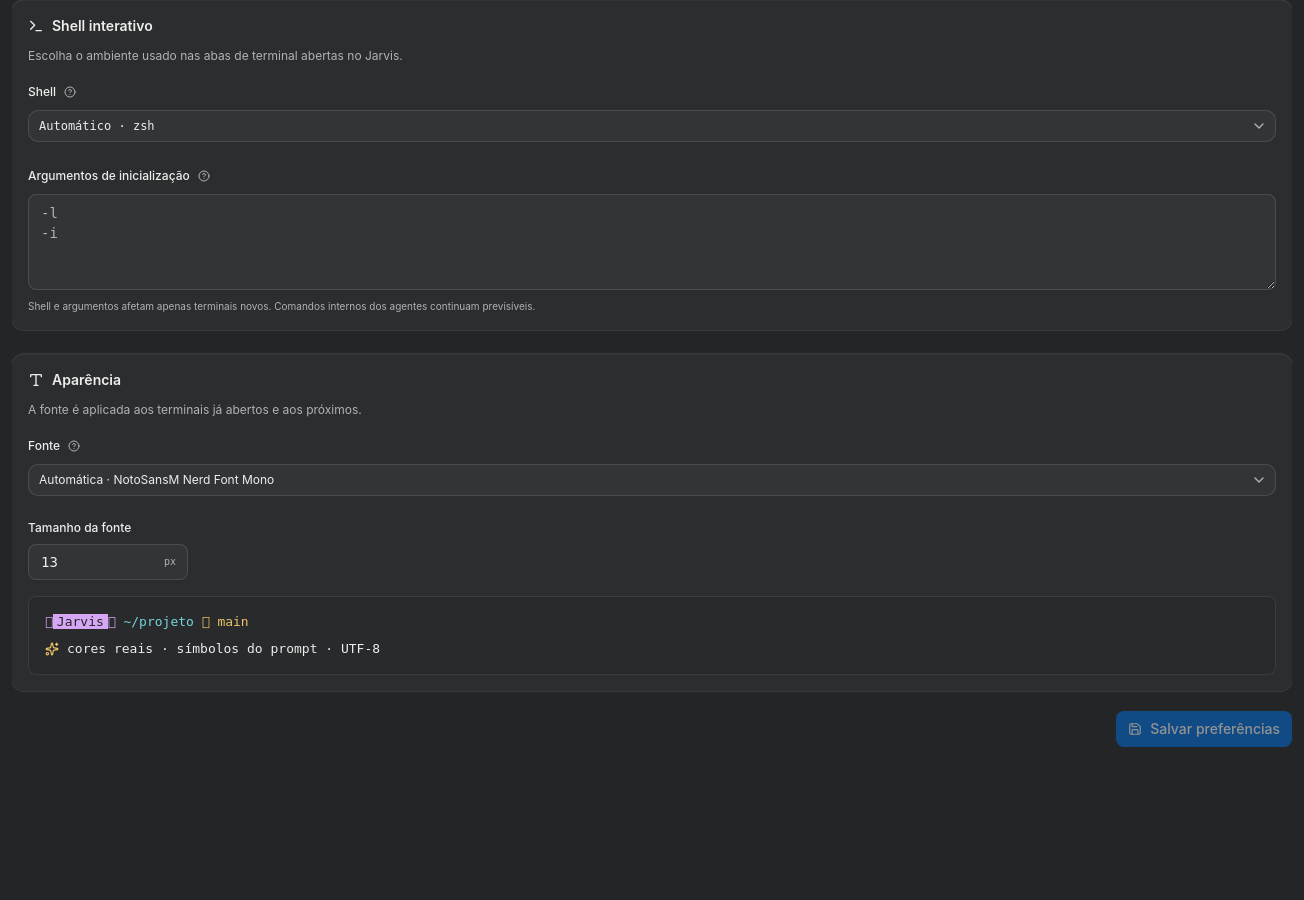
Test: terminal preferences › keeps a rejected custom shell visible so the user can correct it
Click the dropdown named "Shell do terminal" at coordinates (97, 126), box 28,110 -> 1276,142
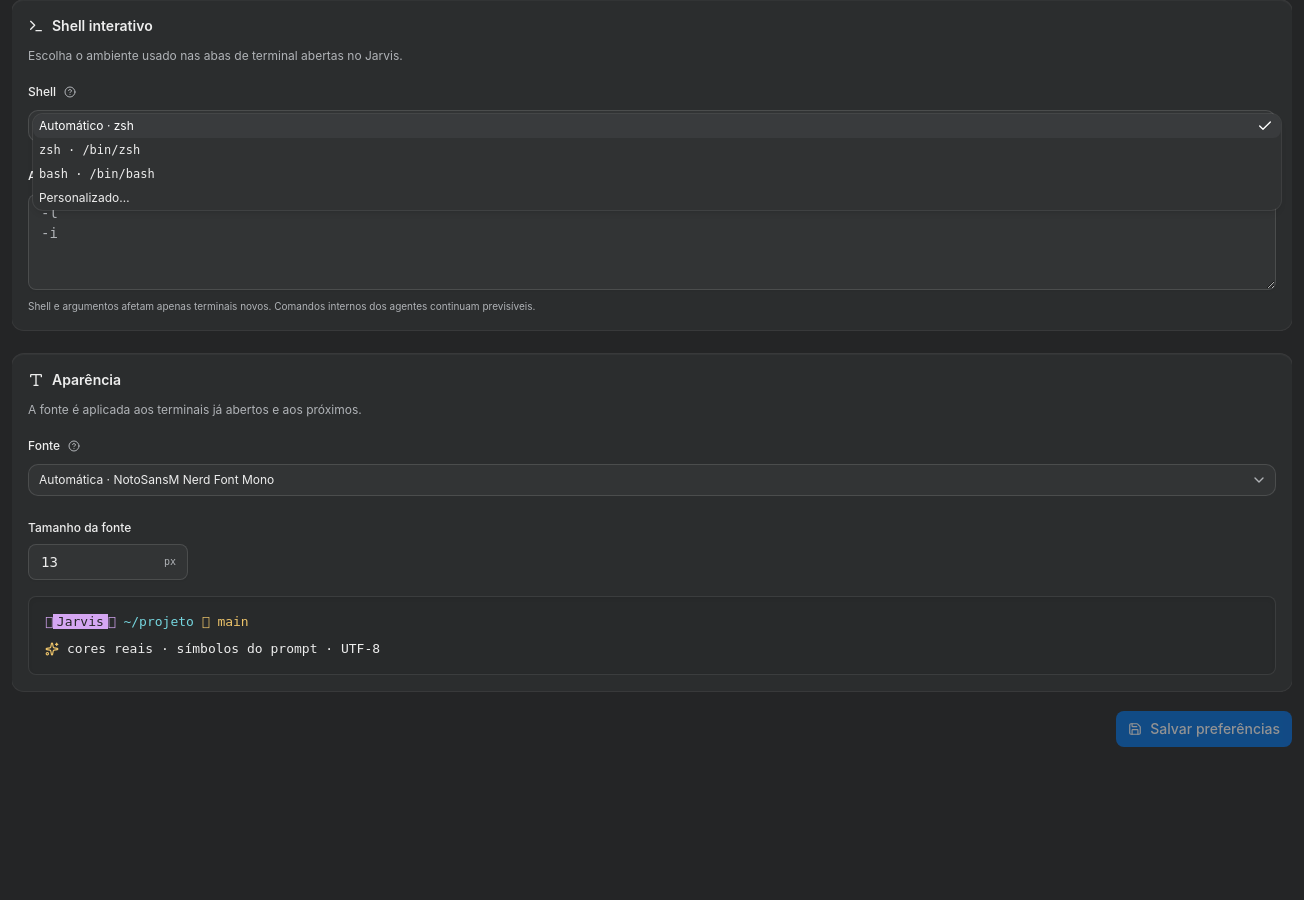
Click the option "Personalizado…" at coordinates (84, 198), box 39,190 -> 130,205
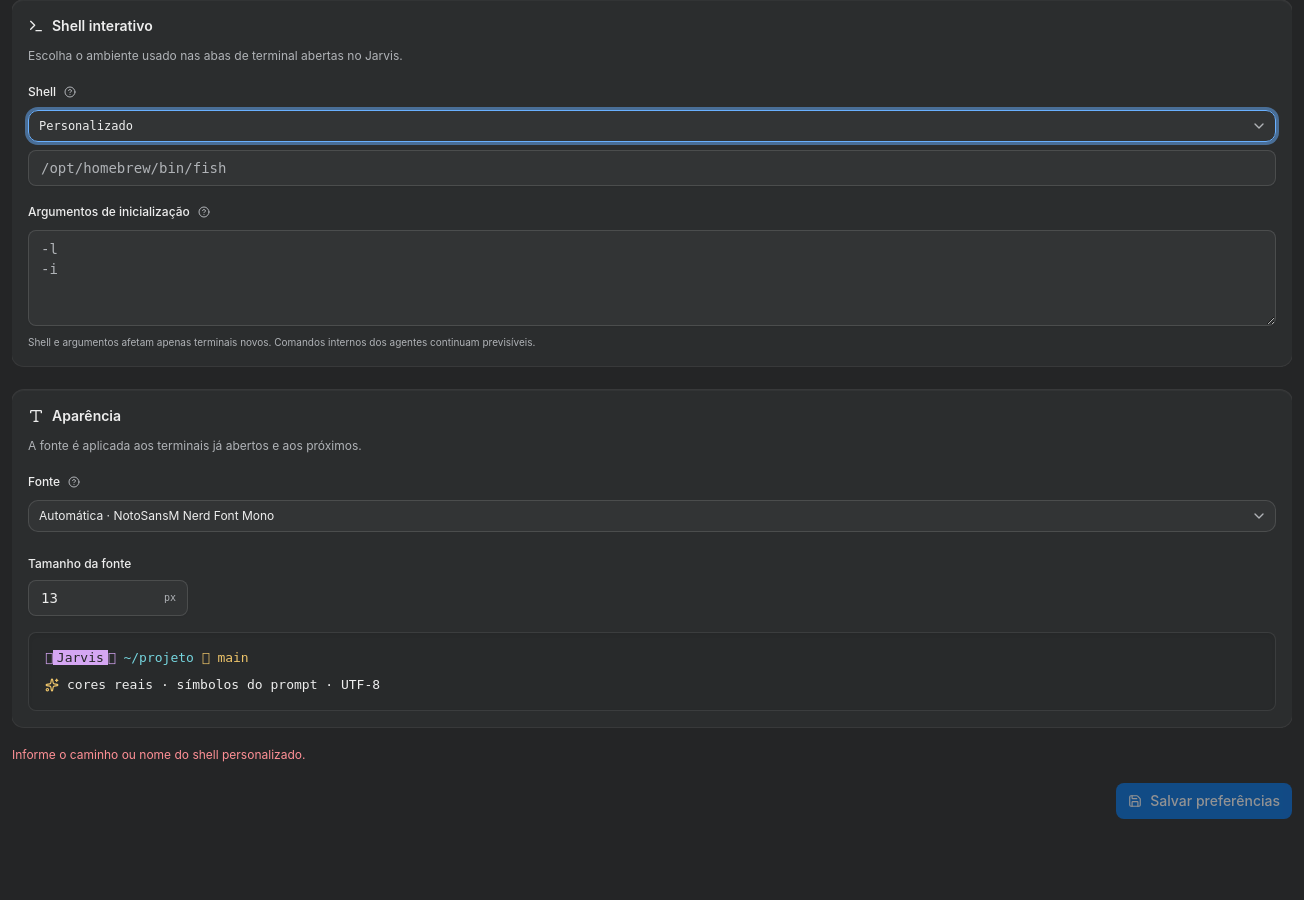
Type "/shell/inexistente" into the field named "Executável personalizado do shell" at coordinates (652, 168), box 28,150 -> 1276,186
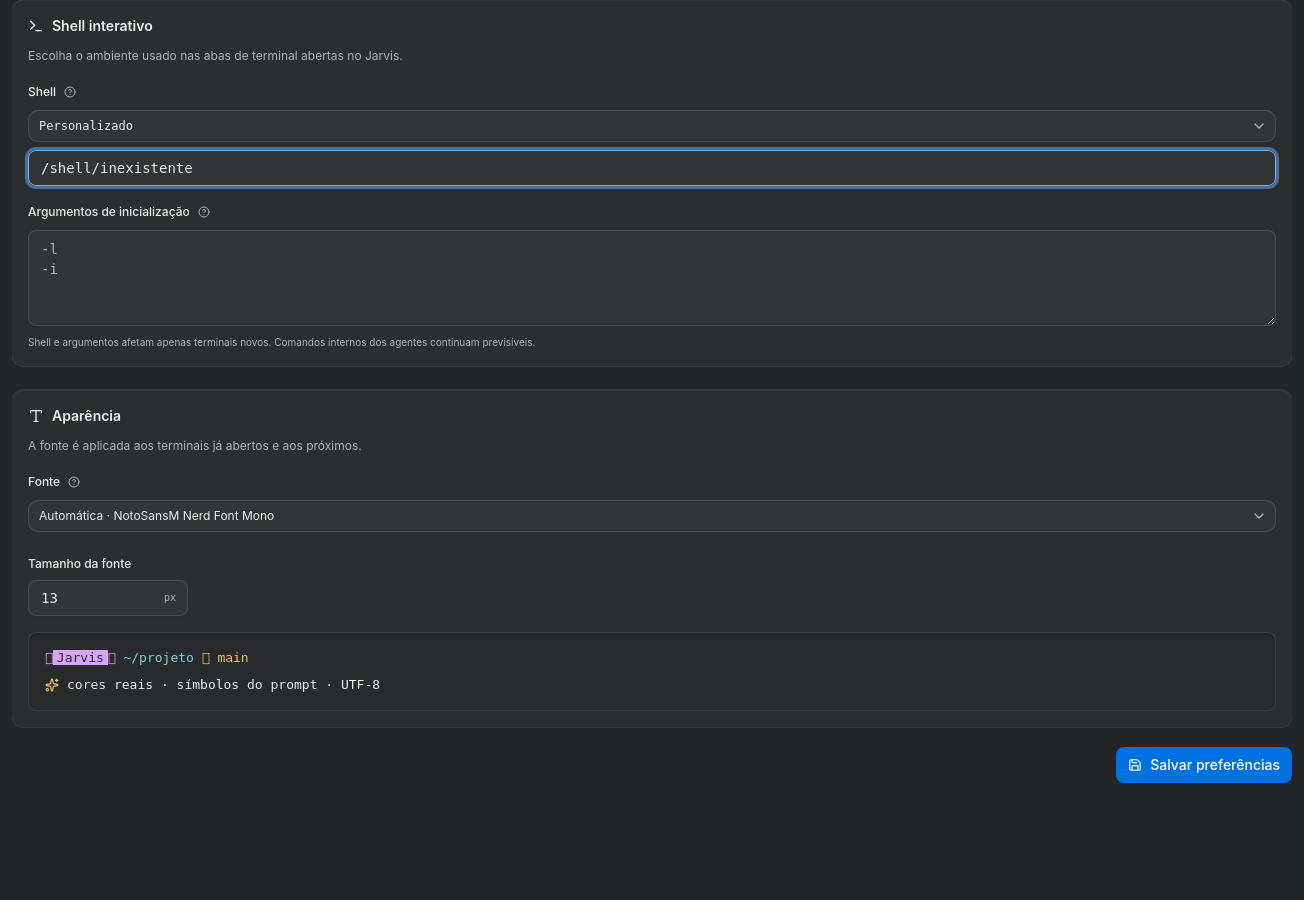
Click the button "Salvar preferências" at coordinates (1204, 765), box 1116,747 -> 1292,783
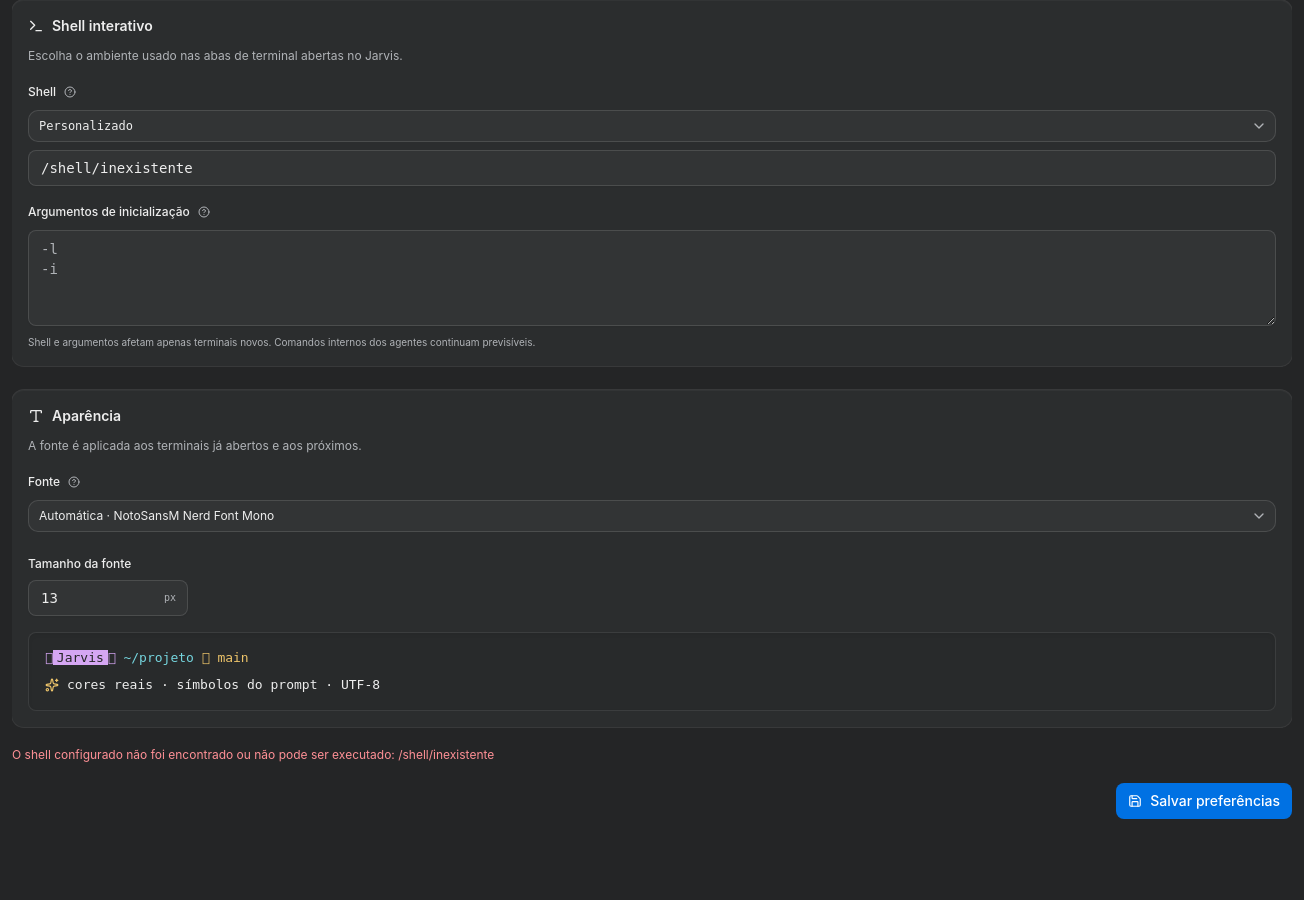
Expected: the button "Salvar preferências" is enabled, 1116,783 -> 1292,819
Expected: the message shows "não foi encontrado", 12,747 -> 494,762
